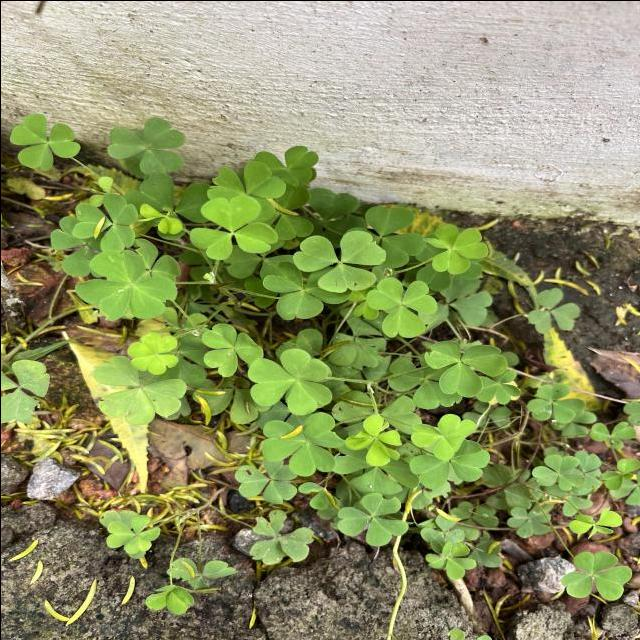Oxalis corniculata: (72, 248, 178, 320), (187, 192, 278, 260), (291, 228, 386, 292), (246, 347, 332, 415), (260, 411, 344, 476), (422, 338, 508, 398), (105, 115, 188, 173), (364, 276, 438, 338), (8, 111, 80, 171), (71, 190, 138, 250), (336, 491, 408, 546), (559, 549, 631, 601), (421, 222, 489, 274), (408, 412, 476, 460), (343, 413, 402, 466), (124, 331, 179, 374), (104, 513, 160, 554), (530, 452, 586, 490)
